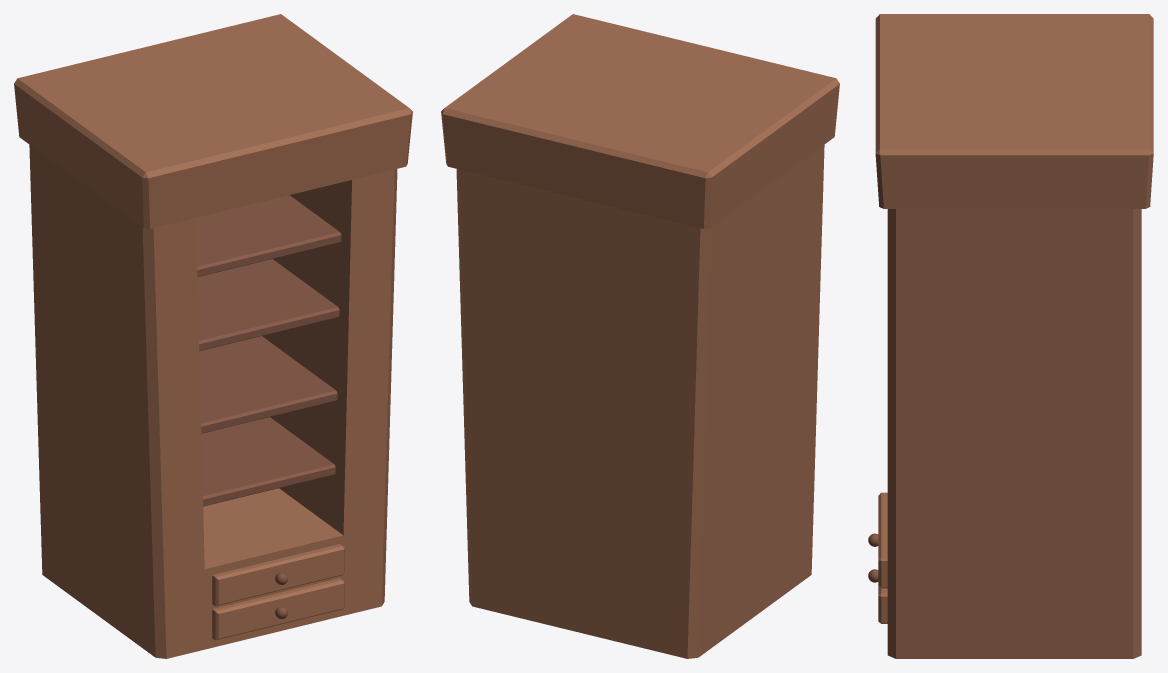
File: Cupboard 1.fbx
3 renders of one model, left to right at view 1: azimuth 30°, elevation 25°; view 2: azimuth 150°, elevation 25°; view 3: azimuth 270°, elevation 25°, orthographic. The views are drawn at different scales.
Parts seen in each view (by area): view 1: Cupboard 1; view 2: Cupboard 1; view 3: Cupboard 1.
Boxes of the visible parts, x1,y1,x2,y2 form: Cupboard 1: (14,14,412,658); Cupboard 1: (441,14,839,658); Cupboard 1: (868,14,1153,658).
Bounding box in the file's own units: 258 × 451 × 225.
